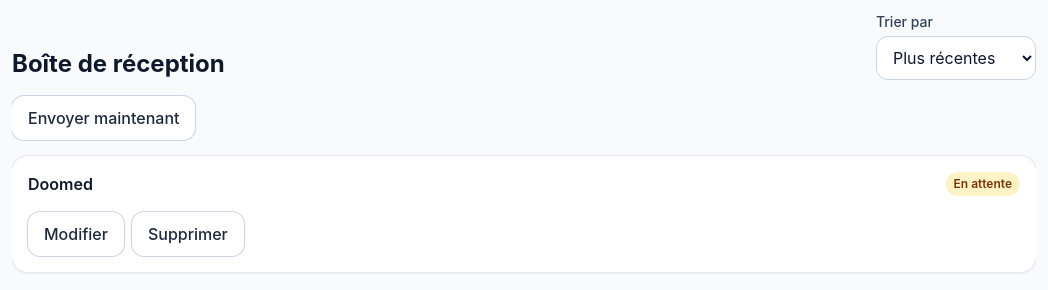
Test: InboxView › deletes after confirmation
What coordinates should you click on to do the following:
click the button "Supprimer"
I would click on:
 (188, 234)
Its box is [132, 212, 244, 256].
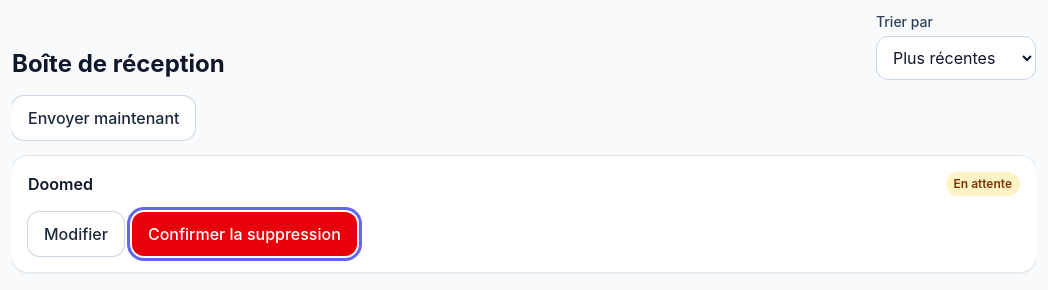
What coordinates should you click on to do the following:
click the button "Confirmer la suppression"
I would click on:
 (244, 234)
Its box is [132, 212, 357, 256].
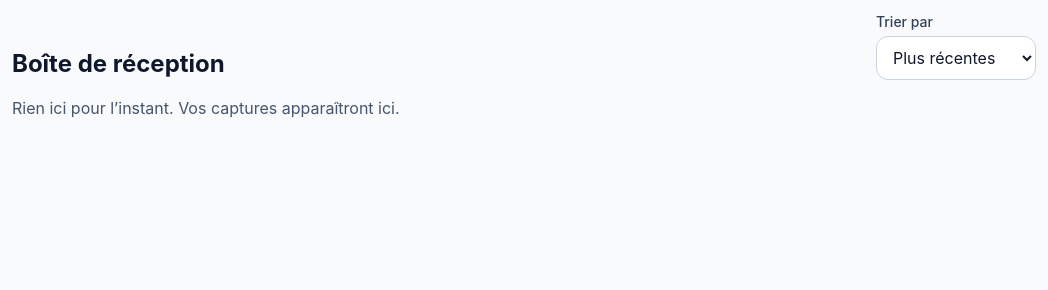
Expected: the heading "Doomed" is gone
